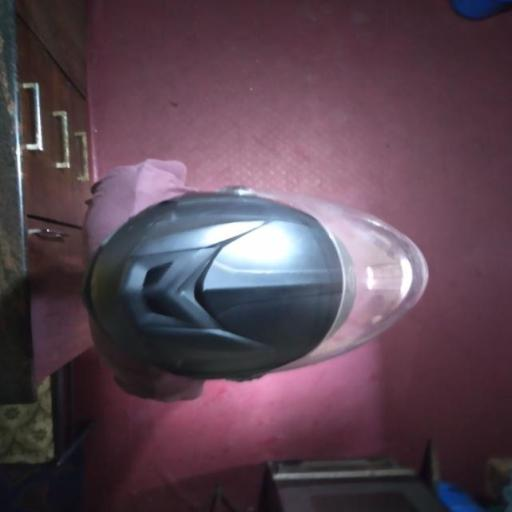with helmet: (85, 185, 431, 382)
